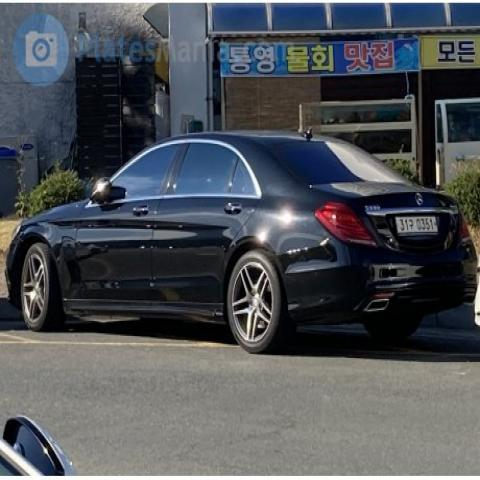LP: (390, 206, 441, 244)
